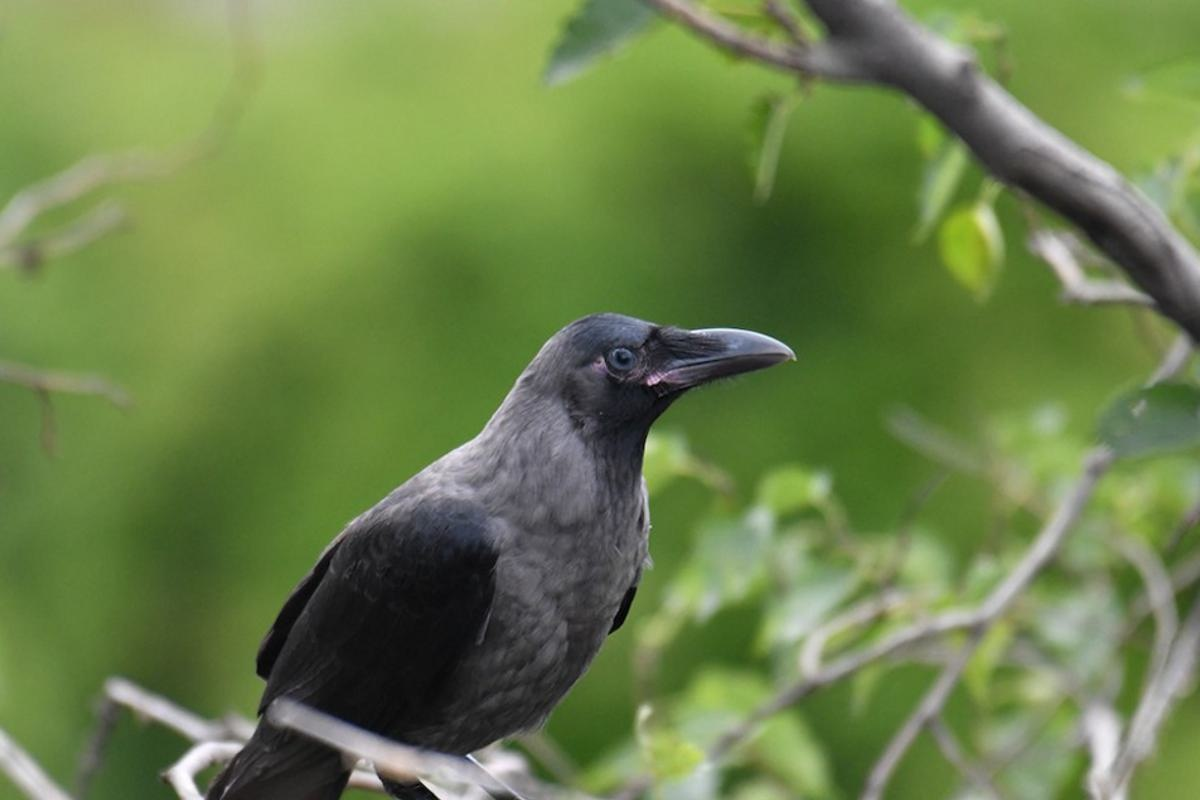crow: (170, 296, 804, 797)
